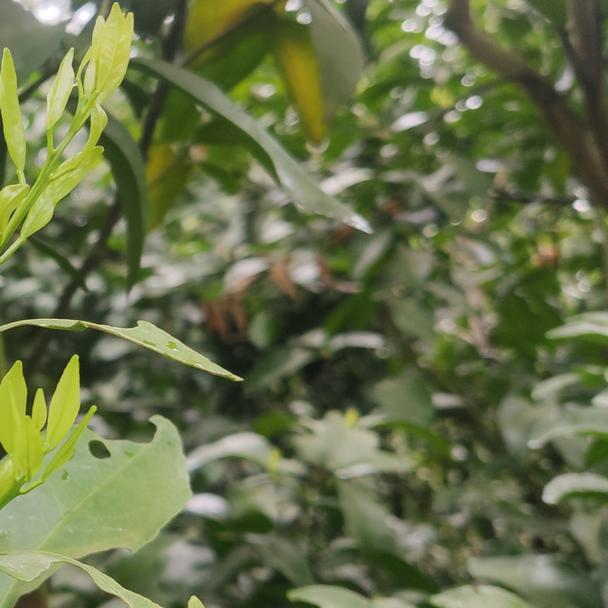shoot: (2, 2, 134, 244), (2, 368, 92, 508)
